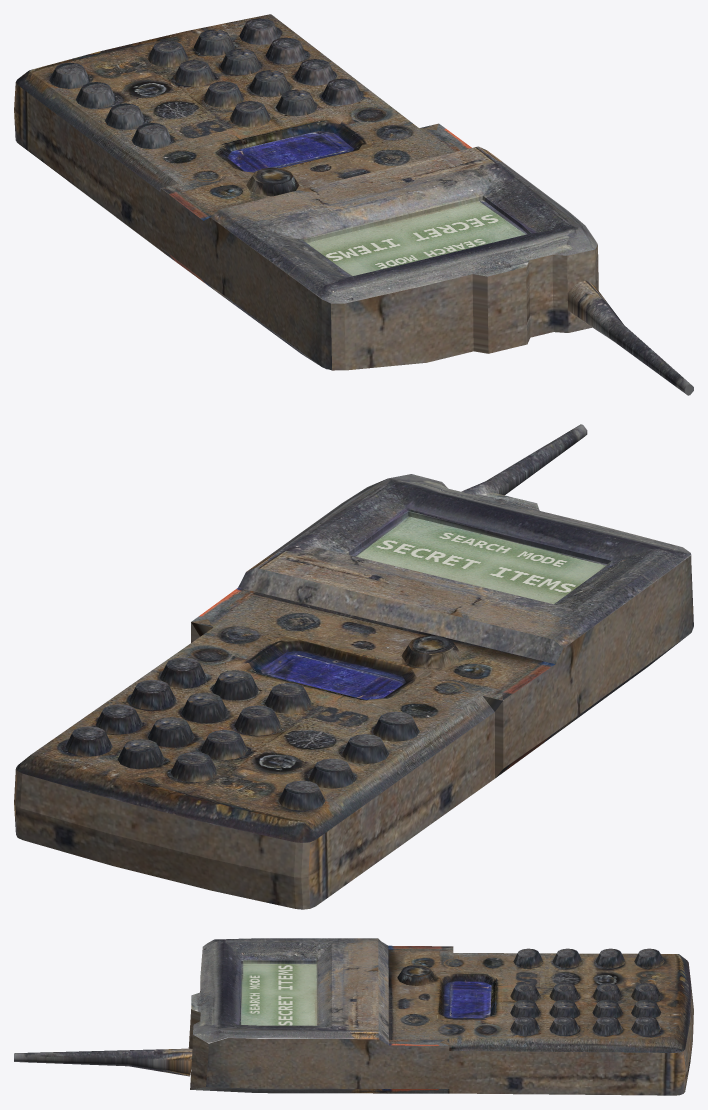
Rendered from SM_DetectorItem00.fbx.
3 renders of one model, top to bottom at view 1: azimuth 30°, elevation 25°; view 2: azimuth 150°, elevation 25°; view 3: azimuth 270°, elevation 25°, orthographic. The views are drawn at different scales.
Visible parts, largest first — view 1: SM_DetectorItem00; view 2: SM_DetectorItem00; view 3: SM_DetectorItem00.
Boxes of the visible parts, box(x1,y1,x2,y2) form: SM_DetectorItem00: box(14, 14, 693, 395); SM_DetectorItem00: box(14, 424, 693, 909); SM_DetectorItem00: box(14, 938, 693, 1095).
Size of the model in its own units: 12.9 by 3.75 by 37.26.
